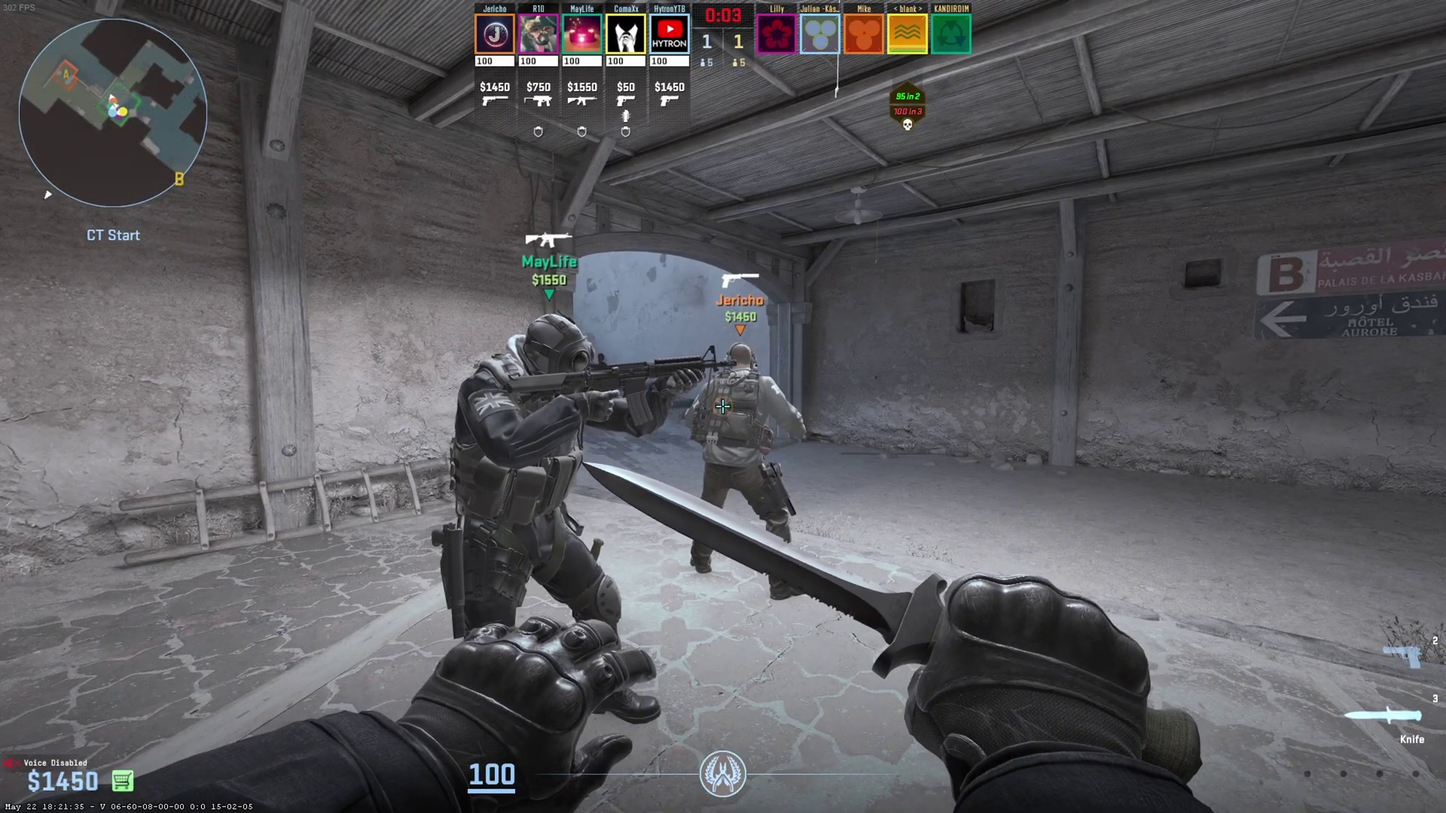CT: (449, 312, 622, 652), (690, 345, 803, 596)
